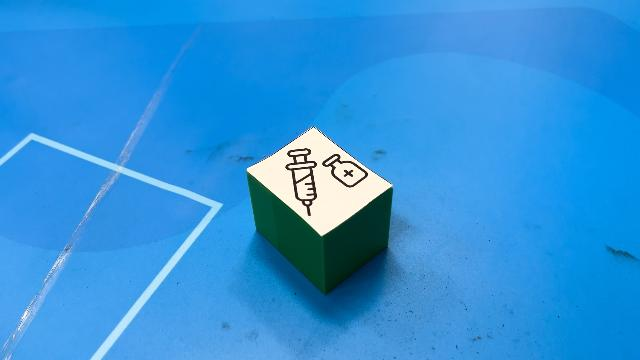syringe: (245, 127, 393, 296)
